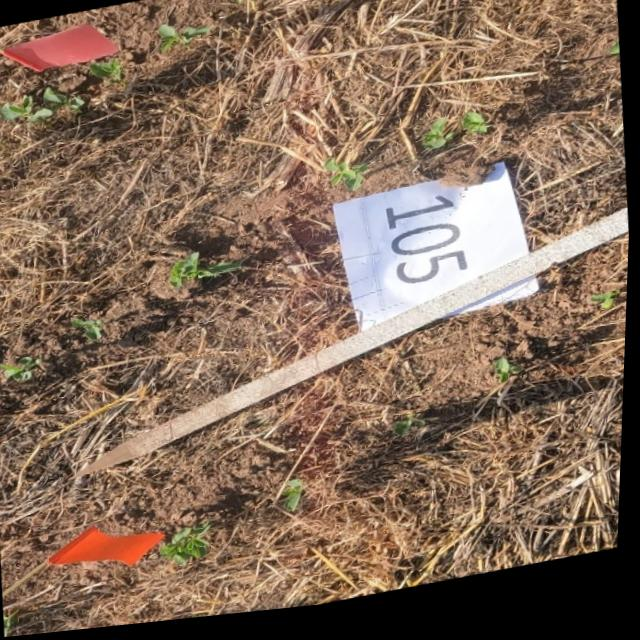soy_plant: (0, 88, 84, 124), (171, 258, 241, 291), (163, 526, 214, 569), (158, 27, 210, 55), (325, 165, 368, 198), (2, 356, 44, 381), (423, 127, 454, 157), (89, 61, 124, 86), (396, 423, 427, 444), (496, 368, 520, 395), (74, 320, 104, 341), (460, 122, 487, 145), (286, 487, 306, 517), (592, 305, 619, 323), (233, 0, 258, 9)
